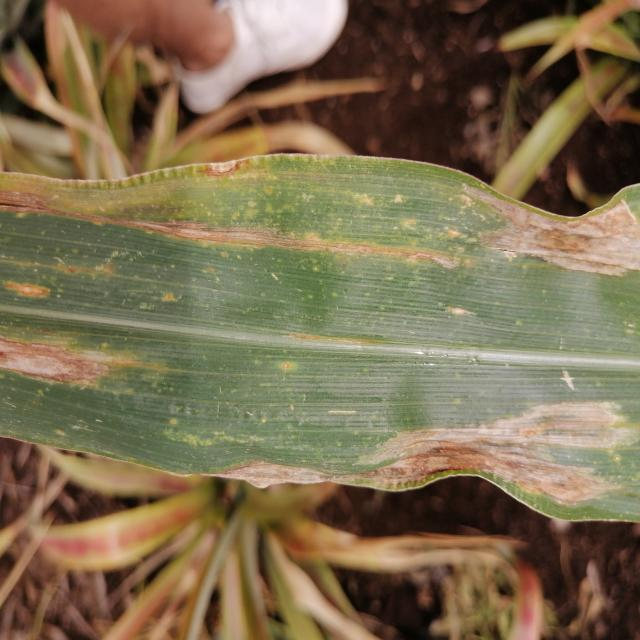Corn_Leaf_Blight: (0, 154, 640, 534)
